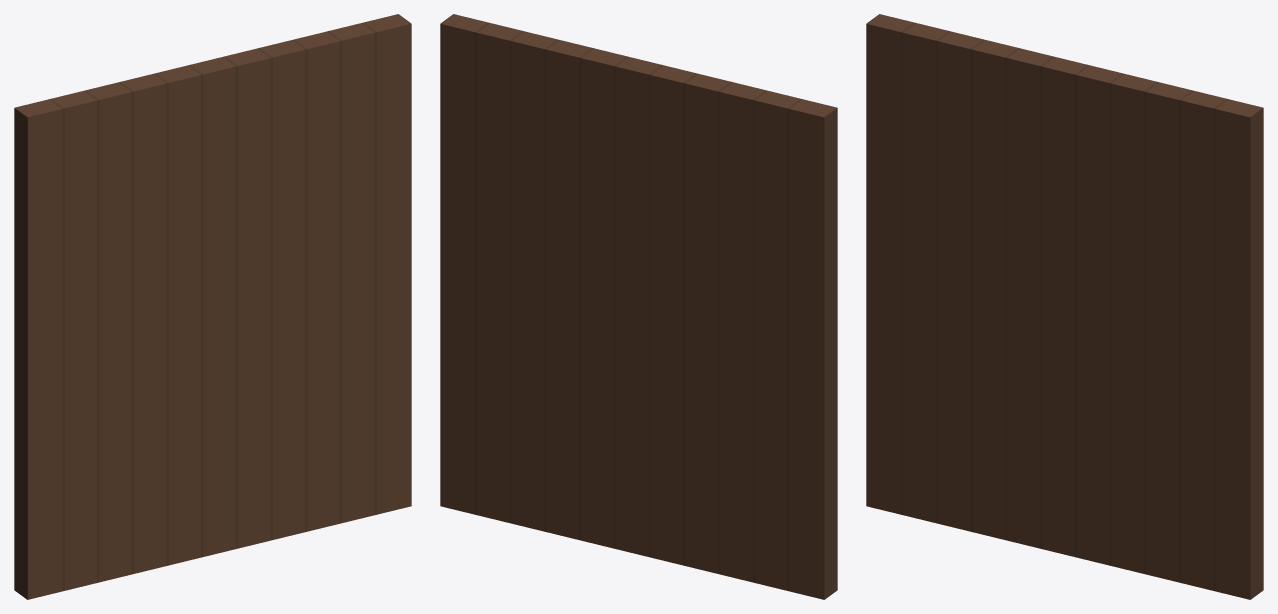
The model's file is Wall3_C9_16.fbx.
The picture shows the model from 3 angles, left to right: view 1: azimuth 30°, elevation 25°; view 2: azimuth 150°, elevation 25°; view 3: azimuth 330°, elevation 25°; orthographic projection.
Visible parts, largest first — view 1: Wall3_C9_16; view 2: Wall3_C9_16; view 3: Wall3_C9_16.
Part boxes in pixels (bbox=[...]): Wall3_C9_16: bbox=[14, 14, 411, 599]; Wall3_C9_16: bbox=[440, 14, 837, 599]; Wall3_C9_16: bbox=[866, 14, 1263, 599].
Bounding box in the file's own units: 250 × 300 × 15.
